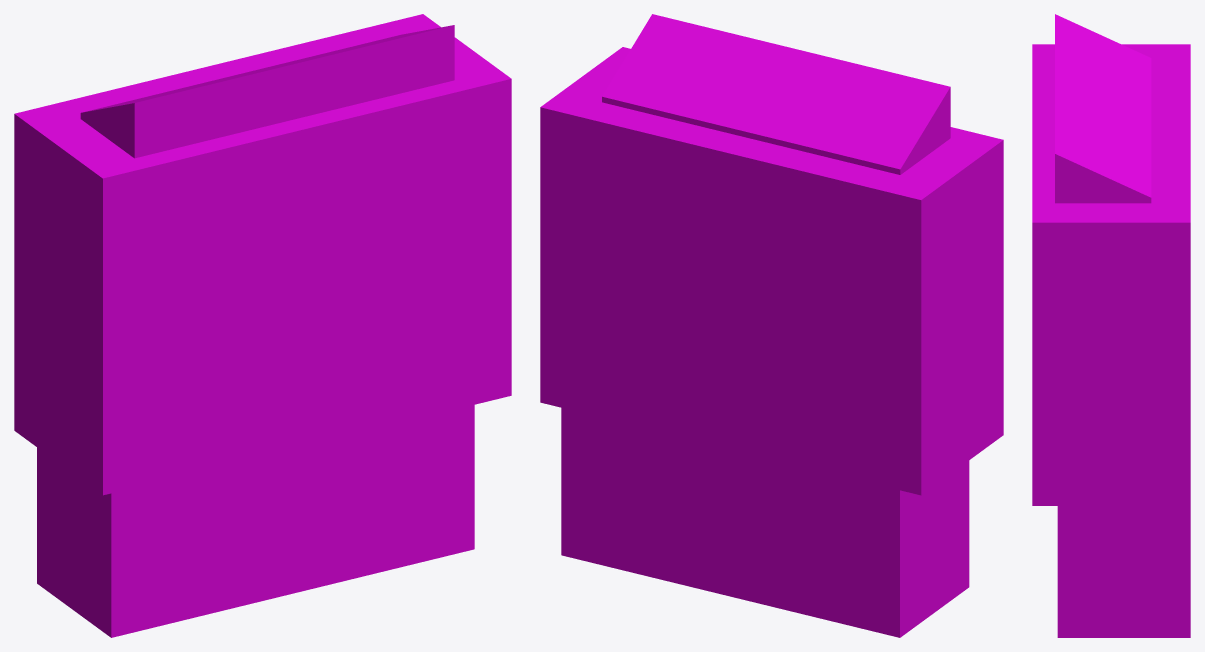
Rendered from SM_GloveDispenserCollider.fbx.
3 renders of one model, left to right at view 1: azimuth 30°, elevation 25°; view 2: azimuth 150°, elevation 25°; view 3: azimuth 270°, elevation 25°, orthographic. The views are drawn at different scales.
Parts seen in each view (by area): view 1: GloveDispenserCollision; view 2: GloveDispenserCollision; view 3: GloveDispenserCollision.
Boxes of the visible parts, left/top/right/bottom form: GloveDispenserCollision: left=14, top=14, right=511, bottom=637; GloveDispenserCollision: left=540, top=14, right=1003, bottom=637; GloveDispenserCollision: left=1032, top=14, right=1190, bottom=637.
Size of the model in its own units: 33.75 by 41.87 by 12.66.
